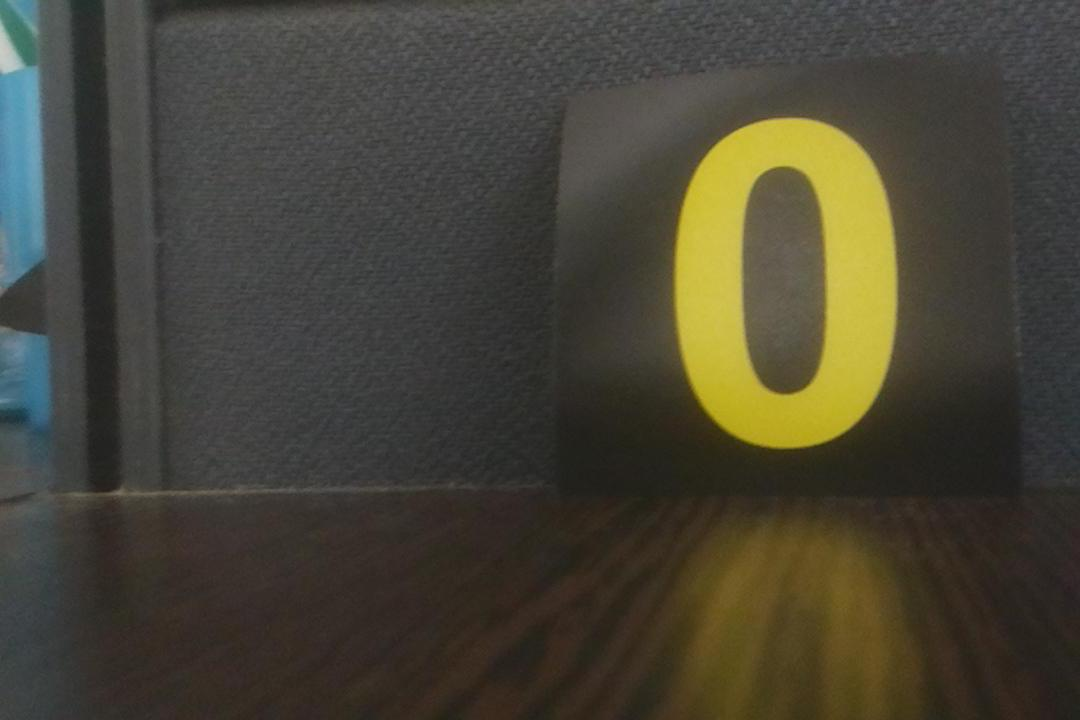zero: (565, 91, 1021, 489)
